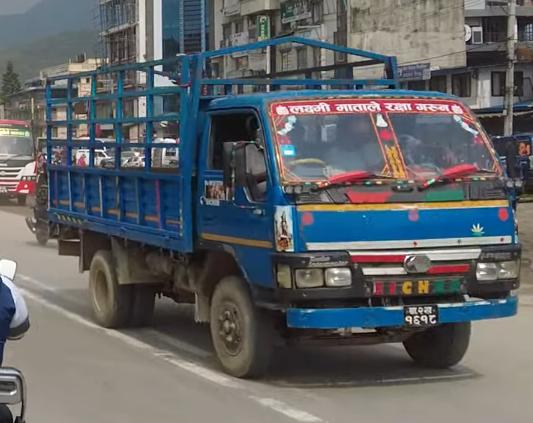bus: (0, 102, 40, 213)
mini_truck: (42, 26, 531, 379)
